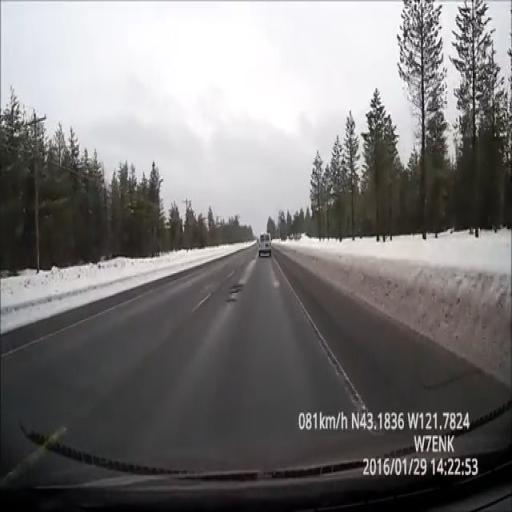Potholes: (227, 283, 242, 300)
